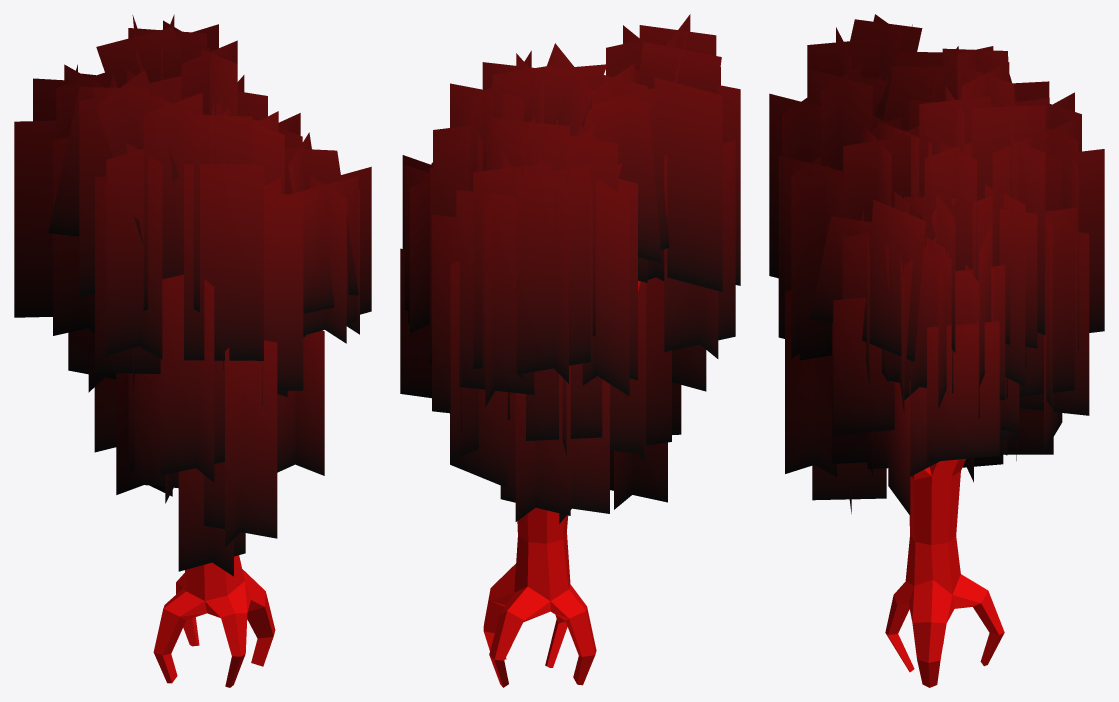
Rendered from SM_Tree_Willow_Medium_01.gltf.
The picture shows the model from 3 angles, left to right: view 1: azimuth 30°, elevation 25°; view 2: azimuth 150°, elevation 25°; view 3: azimuth 270°, elevation 25°; orthographic projection. The views are drawn at different scales.
Visible parts, largest first — view 1: SM_Tree_Willow_Medium_01; view 2: SM_Tree_Willow_Medium_01; view 3: SM_Tree_Willow_Medium_01.
Boxes of the visible parts, box(x1,y1,x2,y2) form: SM_Tree_Willow_Medium_01: box(14, 14, 371, 687); SM_Tree_Willow_Medium_01: box(400, 14, 740, 687); SM_Tree_Willow_Medium_01: box(769, 14, 1104, 687).
Size of the model in its own units: 3.36 by 6.68 by 3.36.
